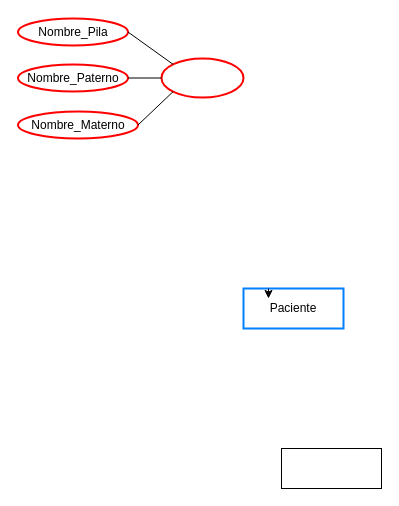
Some shapes in this 399 by 506 pixel diagram are drawn without their labels. Each missing label, with the box of its shape:
Entity: (280, 448, 382, 488)
Nombre_C: (160, 57, 244, 98)
